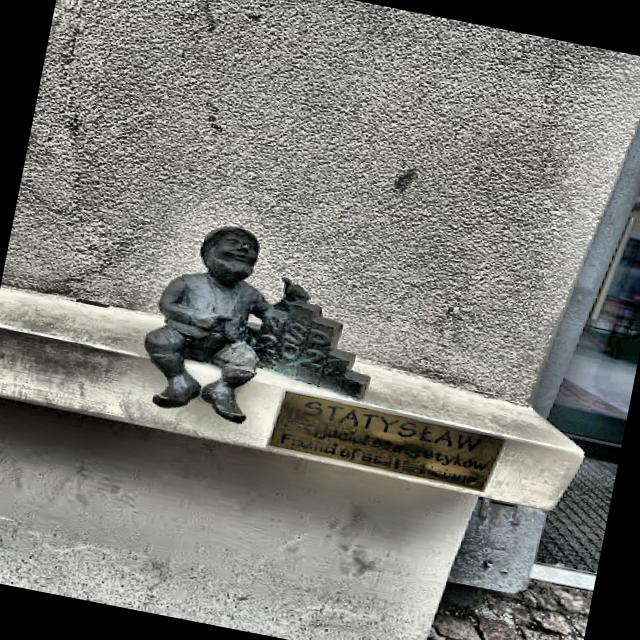Statyslaw: (144, 227, 369, 422)
